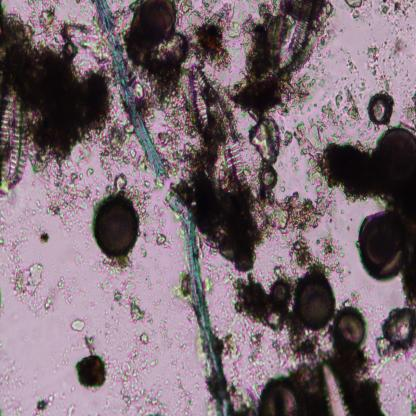Background material: (190, 148, 264, 276), (31, 50, 117, 158), (1, 0, 90, 93), (139, 48, 200, 173), (282, 83, 360, 165), (254, 176, 338, 243), (111, 327, 174, 416), (238, 2, 286, 118), (240, 262, 297, 344), (36, 158, 93, 234), (184, 0, 242, 69), (312, 146, 374, 207), (367, 298, 416, 369), (343, 354, 392, 416), (102, 272, 158, 326), (287, 235, 349, 280), (132, 187, 175, 250), (0, 197, 33, 276), (13, 259, 54, 315), (101, 119, 142, 168), (164, 364, 200, 416), (246, 115, 283, 165), (282, 324, 322, 366), (217, 311, 245, 371), (112, 170, 152, 208), (242, 326, 266, 383), (368, 42, 392, 96), (312, 0, 336, 52), (0, 366, 24, 414), (233, 379, 264, 416), (34, 0, 60, 41), (78, 359, 110, 391), (169, 270, 190, 311), (340, 50, 363, 83), (380, 0, 415, 21), (58, 270, 82, 299), (55, 339, 78, 369), (310, 51, 327, 91), (402, 86, 416, 130), (345, 0, 372, 22), (403, 372, 416, 416), (34, 391, 53, 416), (406, 269, 416, 306), (81, 335, 96, 357), (70, 315, 87, 333), (202, 276, 220, 293), (72, 248, 87, 268), (343, 290, 359, 308), (290, 153, 302, 177), (38, 225, 52, 245), (282, 129, 295, 147), (394, 40, 404, 58), (0, 286, 4, 321), (67, 404, 77, 416), (281, 179, 287, 192)
Cotton: (94, 2, 233, 415)
Diatom: (190, 65, 259, 195), (357, 202, 411, 282), (0, 82, 32, 196), (369, 124, 416, 199), (92, 195, 143, 260), (270, 0, 312, 76), (289, 268, 337, 327), (312, 356, 358, 416), (132, 0, 180, 56), (329, 305, 370, 357), (262, 381, 296, 416), (367, 94, 396, 125), (272, 279, 292, 307), (259, 165, 279, 192)
